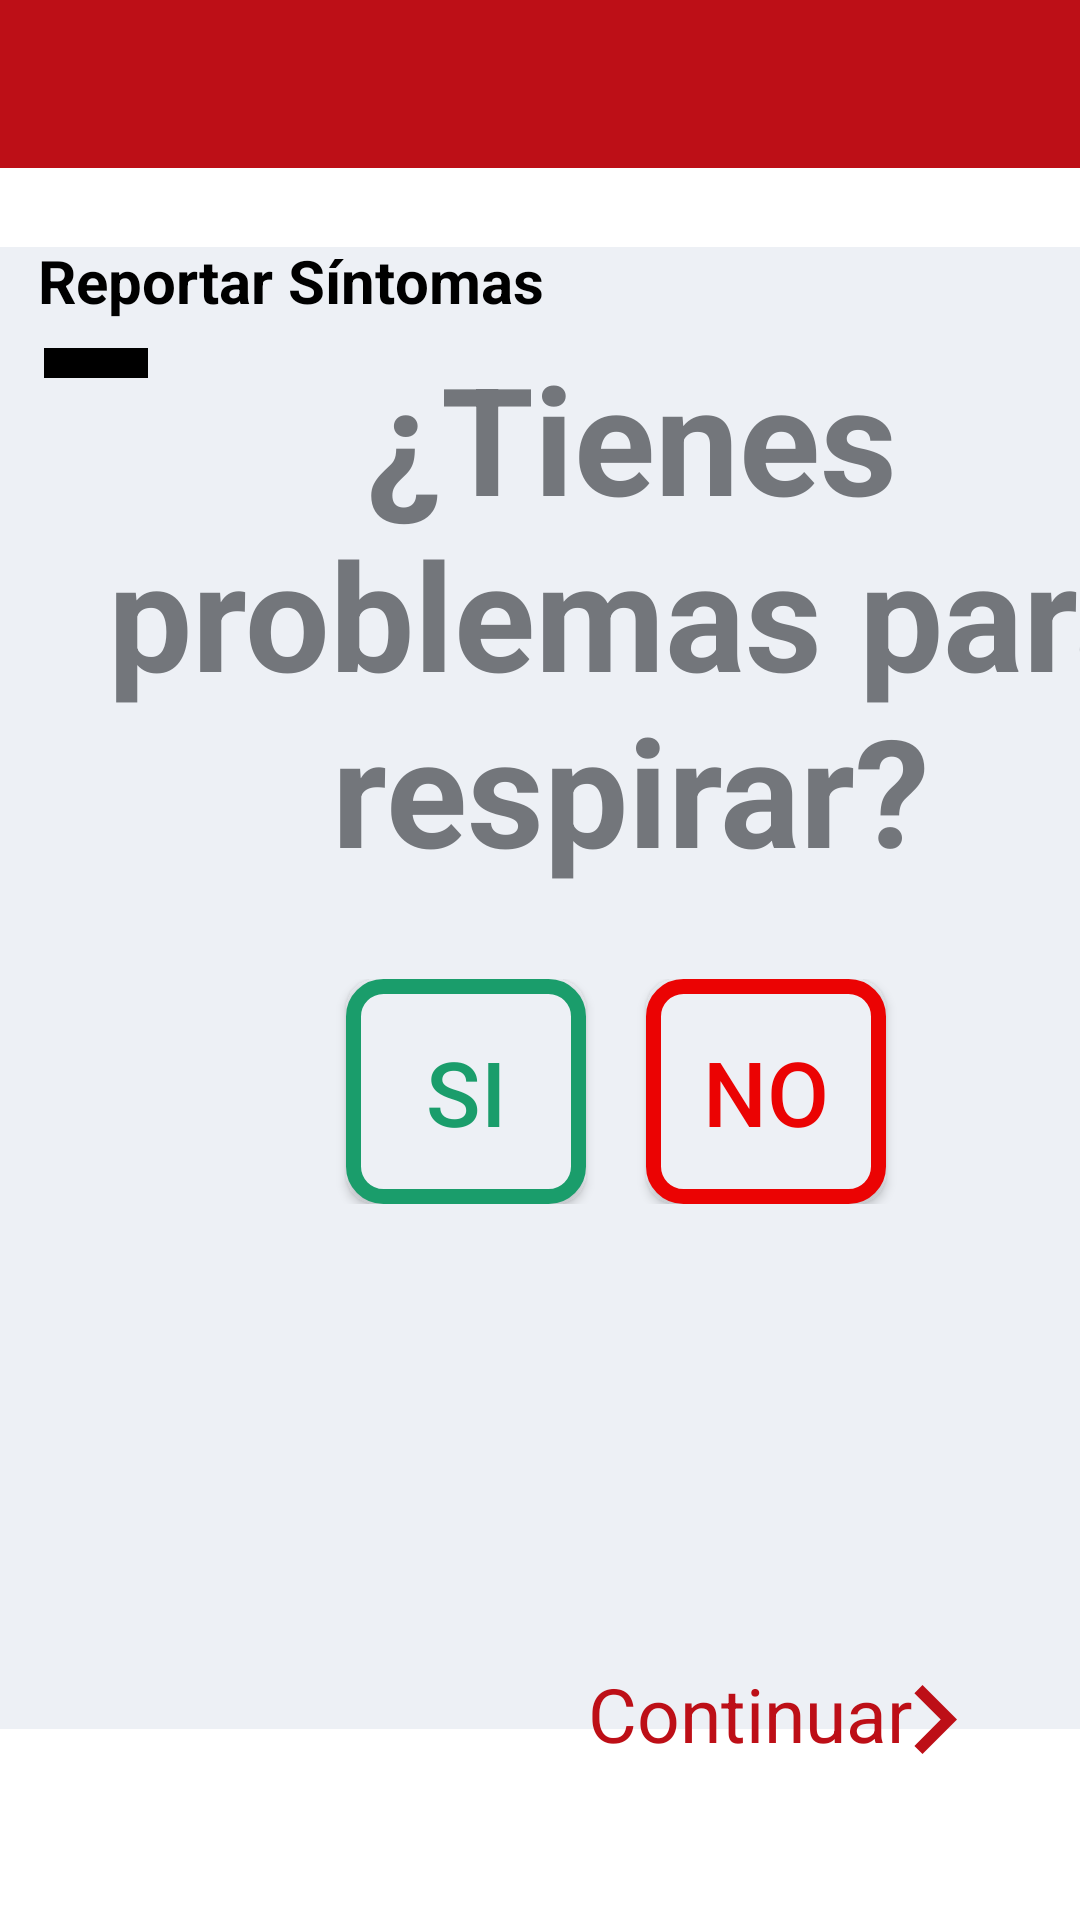

Screen size 1080 x 1920. Icon name, then its center in pixels as (x,y):
right arrow: (924,1719)
